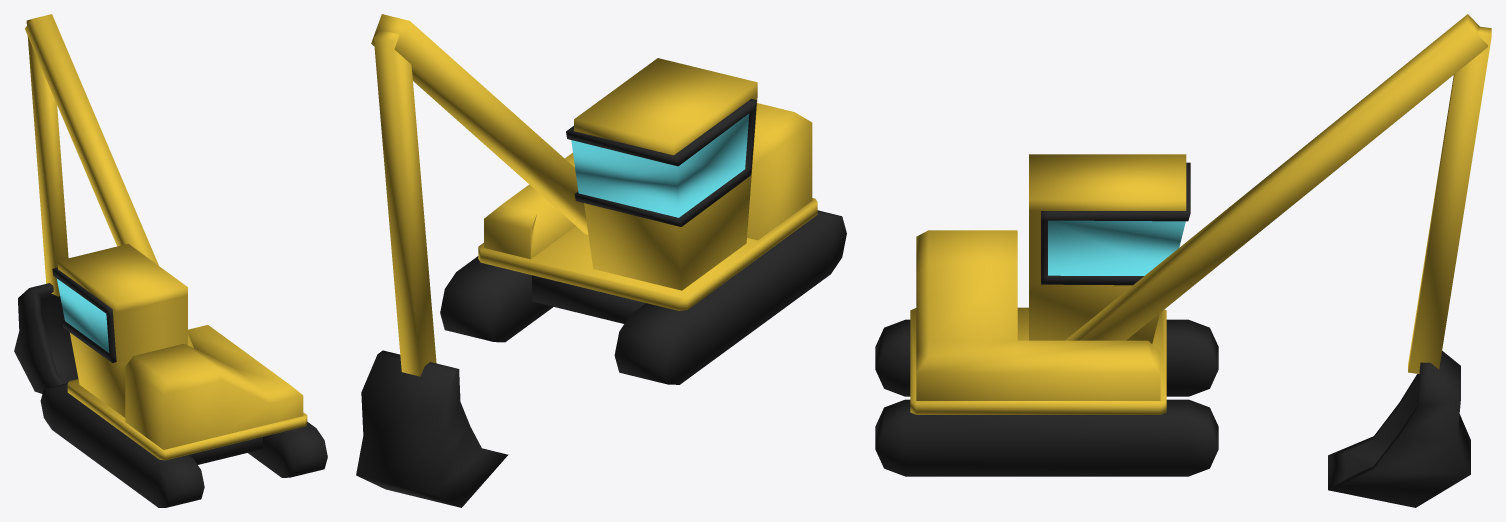
File: pelleteuse.gltf
3 renders of one model, left to right at view 1: azimuth 30°, elevation 25°; view 2: azimuth 150°, elevation 25°; view 3: azimuth 270°, elevation 25°, orthographic. The views are drawn at different scales.
Visible parts, largest first — view 1: 1-cabine, 0-base, 2-bras_0, 3-bras_1, 4-godet; view 2: 1-cabine, 0-base, 4-godet, 3-bras_1, 2-bras_0; view 3: 1-cabine, 0-base, 2-bras_0, 4-godet, 3-bras_1.
Boxes of the visible parts, box(x1,y1,x2,y2) form: 1-cabine: box(52, 243, 307, 460); 0-base: box(40, 383, 327, 507); 2-bras_0: box(25, 14, 193, 348); 3-bras_1: box(26, 19, 68, 296); 4-godet: box(14, 283, 78, 393); 1-cabine: box(478, 58, 817, 310); 0-base: box(440, 210, 846, 384); 4-godet: box(356, 350, 508, 507); 3-bras_1: box(373, 30, 436, 376); 2-bras_0: box(371, 14, 588, 234); 1-cabine: box(910, 154, 1190, 414); 0-base: box(875, 319, 1218, 476); 2-bras_0: box(1065, 14, 1487, 340); 4-godet: box(1328, 350, 1470, 507); 3-bras_1: box(1408, 26, 1491, 373).
Bounding box in the file's own units: 2.4 × 5.14 × 6.11.
